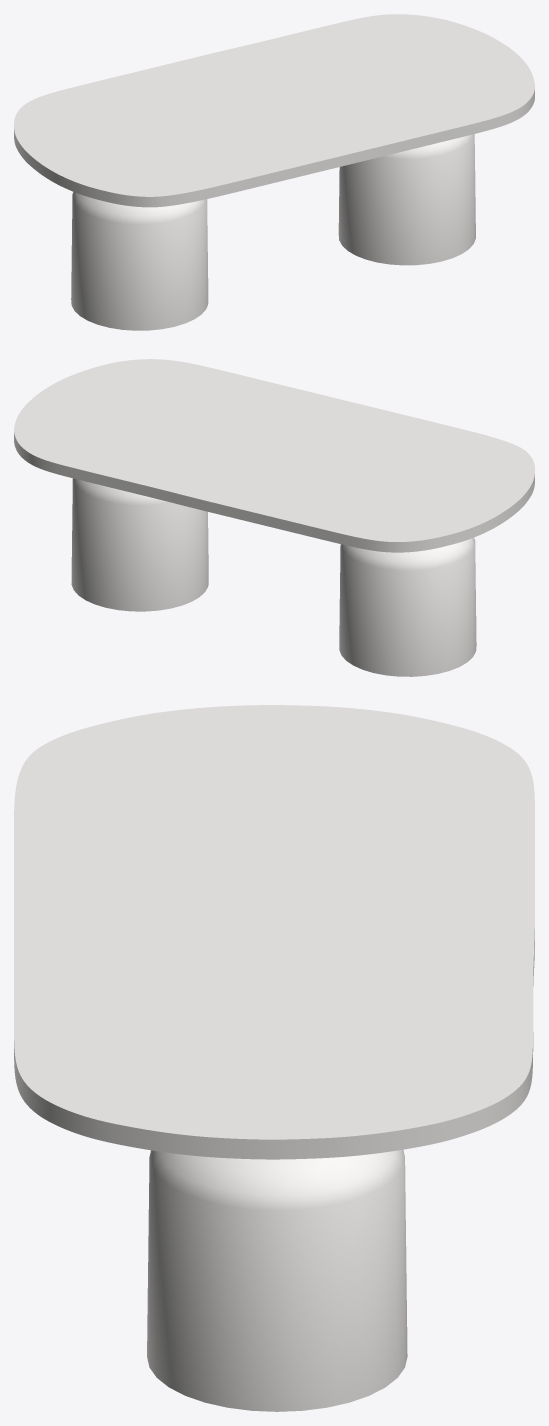
The model's file is purewhite_oval_standard_tornado.glb.
3 views of the same model, one above another, from view 1: azimuth 30°, elevation 25°; view 2: azimuth 150°, elevation 25°; view 3: azimuth 270°, elevation 25° (orthographic). The views are drawn at different scales.
Visible parts, largest first — view 1: standard_oval, tornado; view 2: standard_oval, tornado; view 3: standard_oval, tornado.
Boxes of the visible parts, <box> form: standard_oval: <box>14,14,534,207</box>; tornado: <box>71,134,475,330</box>; standard_oval: <box>14,359,534,552</box>; tornado: <box>71,478,476,676</box>; standard_oval: <box>14,705,534,1159</box>; tornado: <box>147,1149,407,1411</box>.
Size of the model in its own units: 7.5 by 2.5 by 3.8.
1 material, 1 textured.
